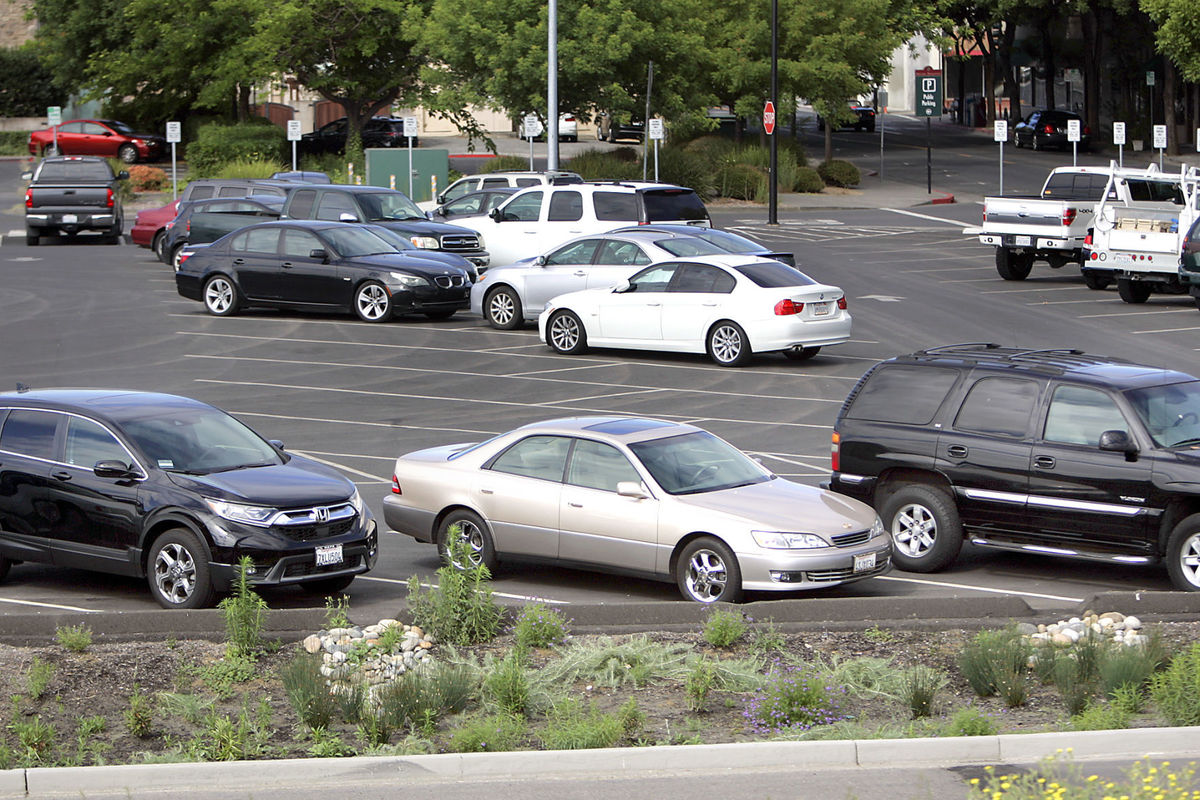empyt_space: (177, 327, 610, 387), (190, 376, 549, 443), (165, 310, 543, 356), (543, 375, 837, 433), (503, 357, 842, 405), (247, 407, 443, 476)
